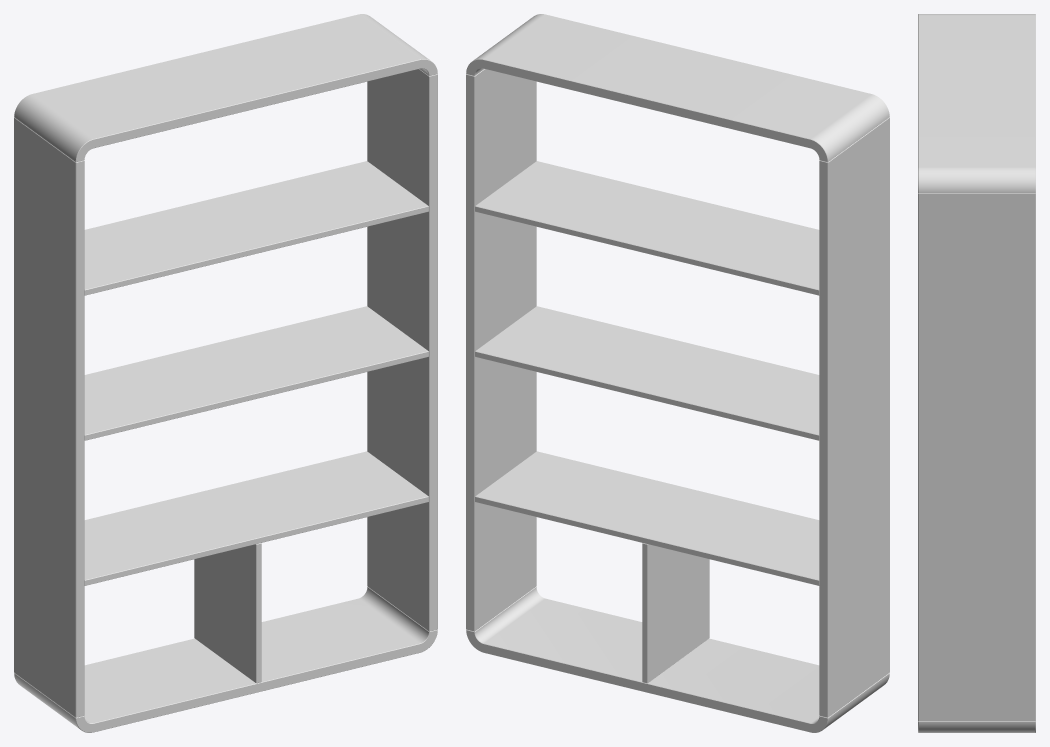
File: Shelf.FBX
3 renders of one model, left to right at view 1: azimuth 30°, elevation 25°; view 2: azimuth 150°, elevation 25°; view 3: azimuth 270°, elevation 25°, orthographic. The views are drawn at different scales.
Parts seen in each view (by area): view 1: shelf; view 2: shelf; view 3: shelf.
Boxes of the visible parts, x1=… form: shelf: x1=14, y1=14, x2=437, y2=732; shelf: x1=466, y1=14, x2=889, y2=732; shelf: x1=918, y1=14, x2=1035, y2=732.
Bounding box in the file's own units: 162 × 254 × 47.96.
1 material, 1 textured.
